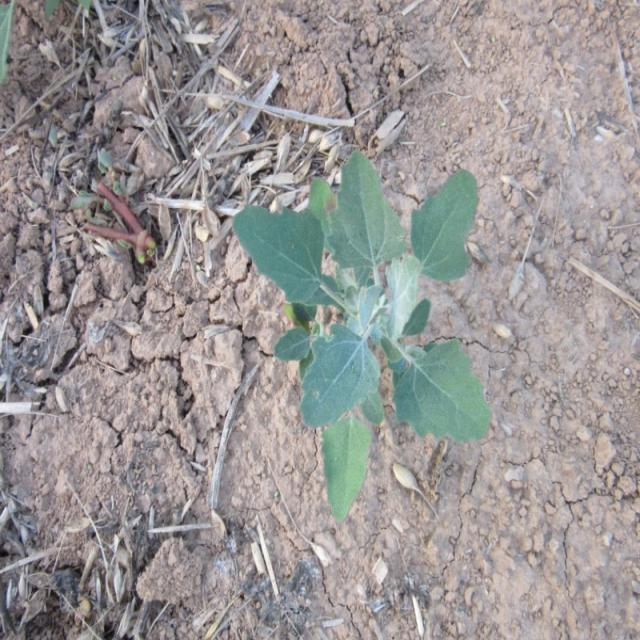ca: (231, 155, 490, 499)
